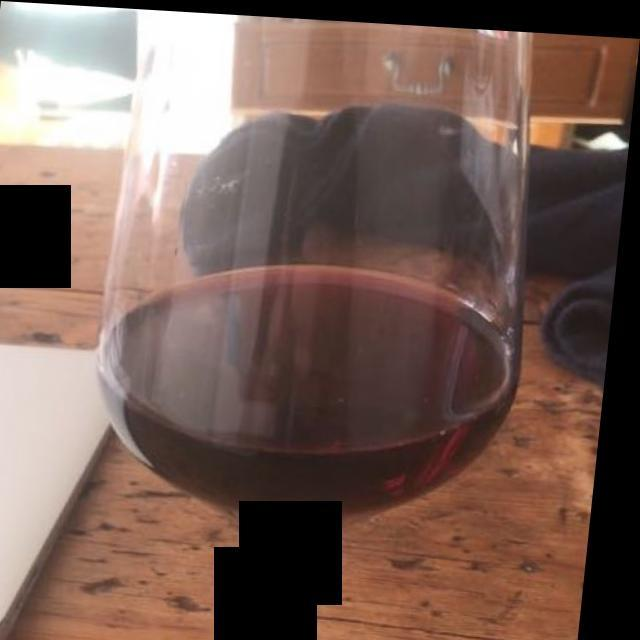wine: (95, 255, 529, 521)
